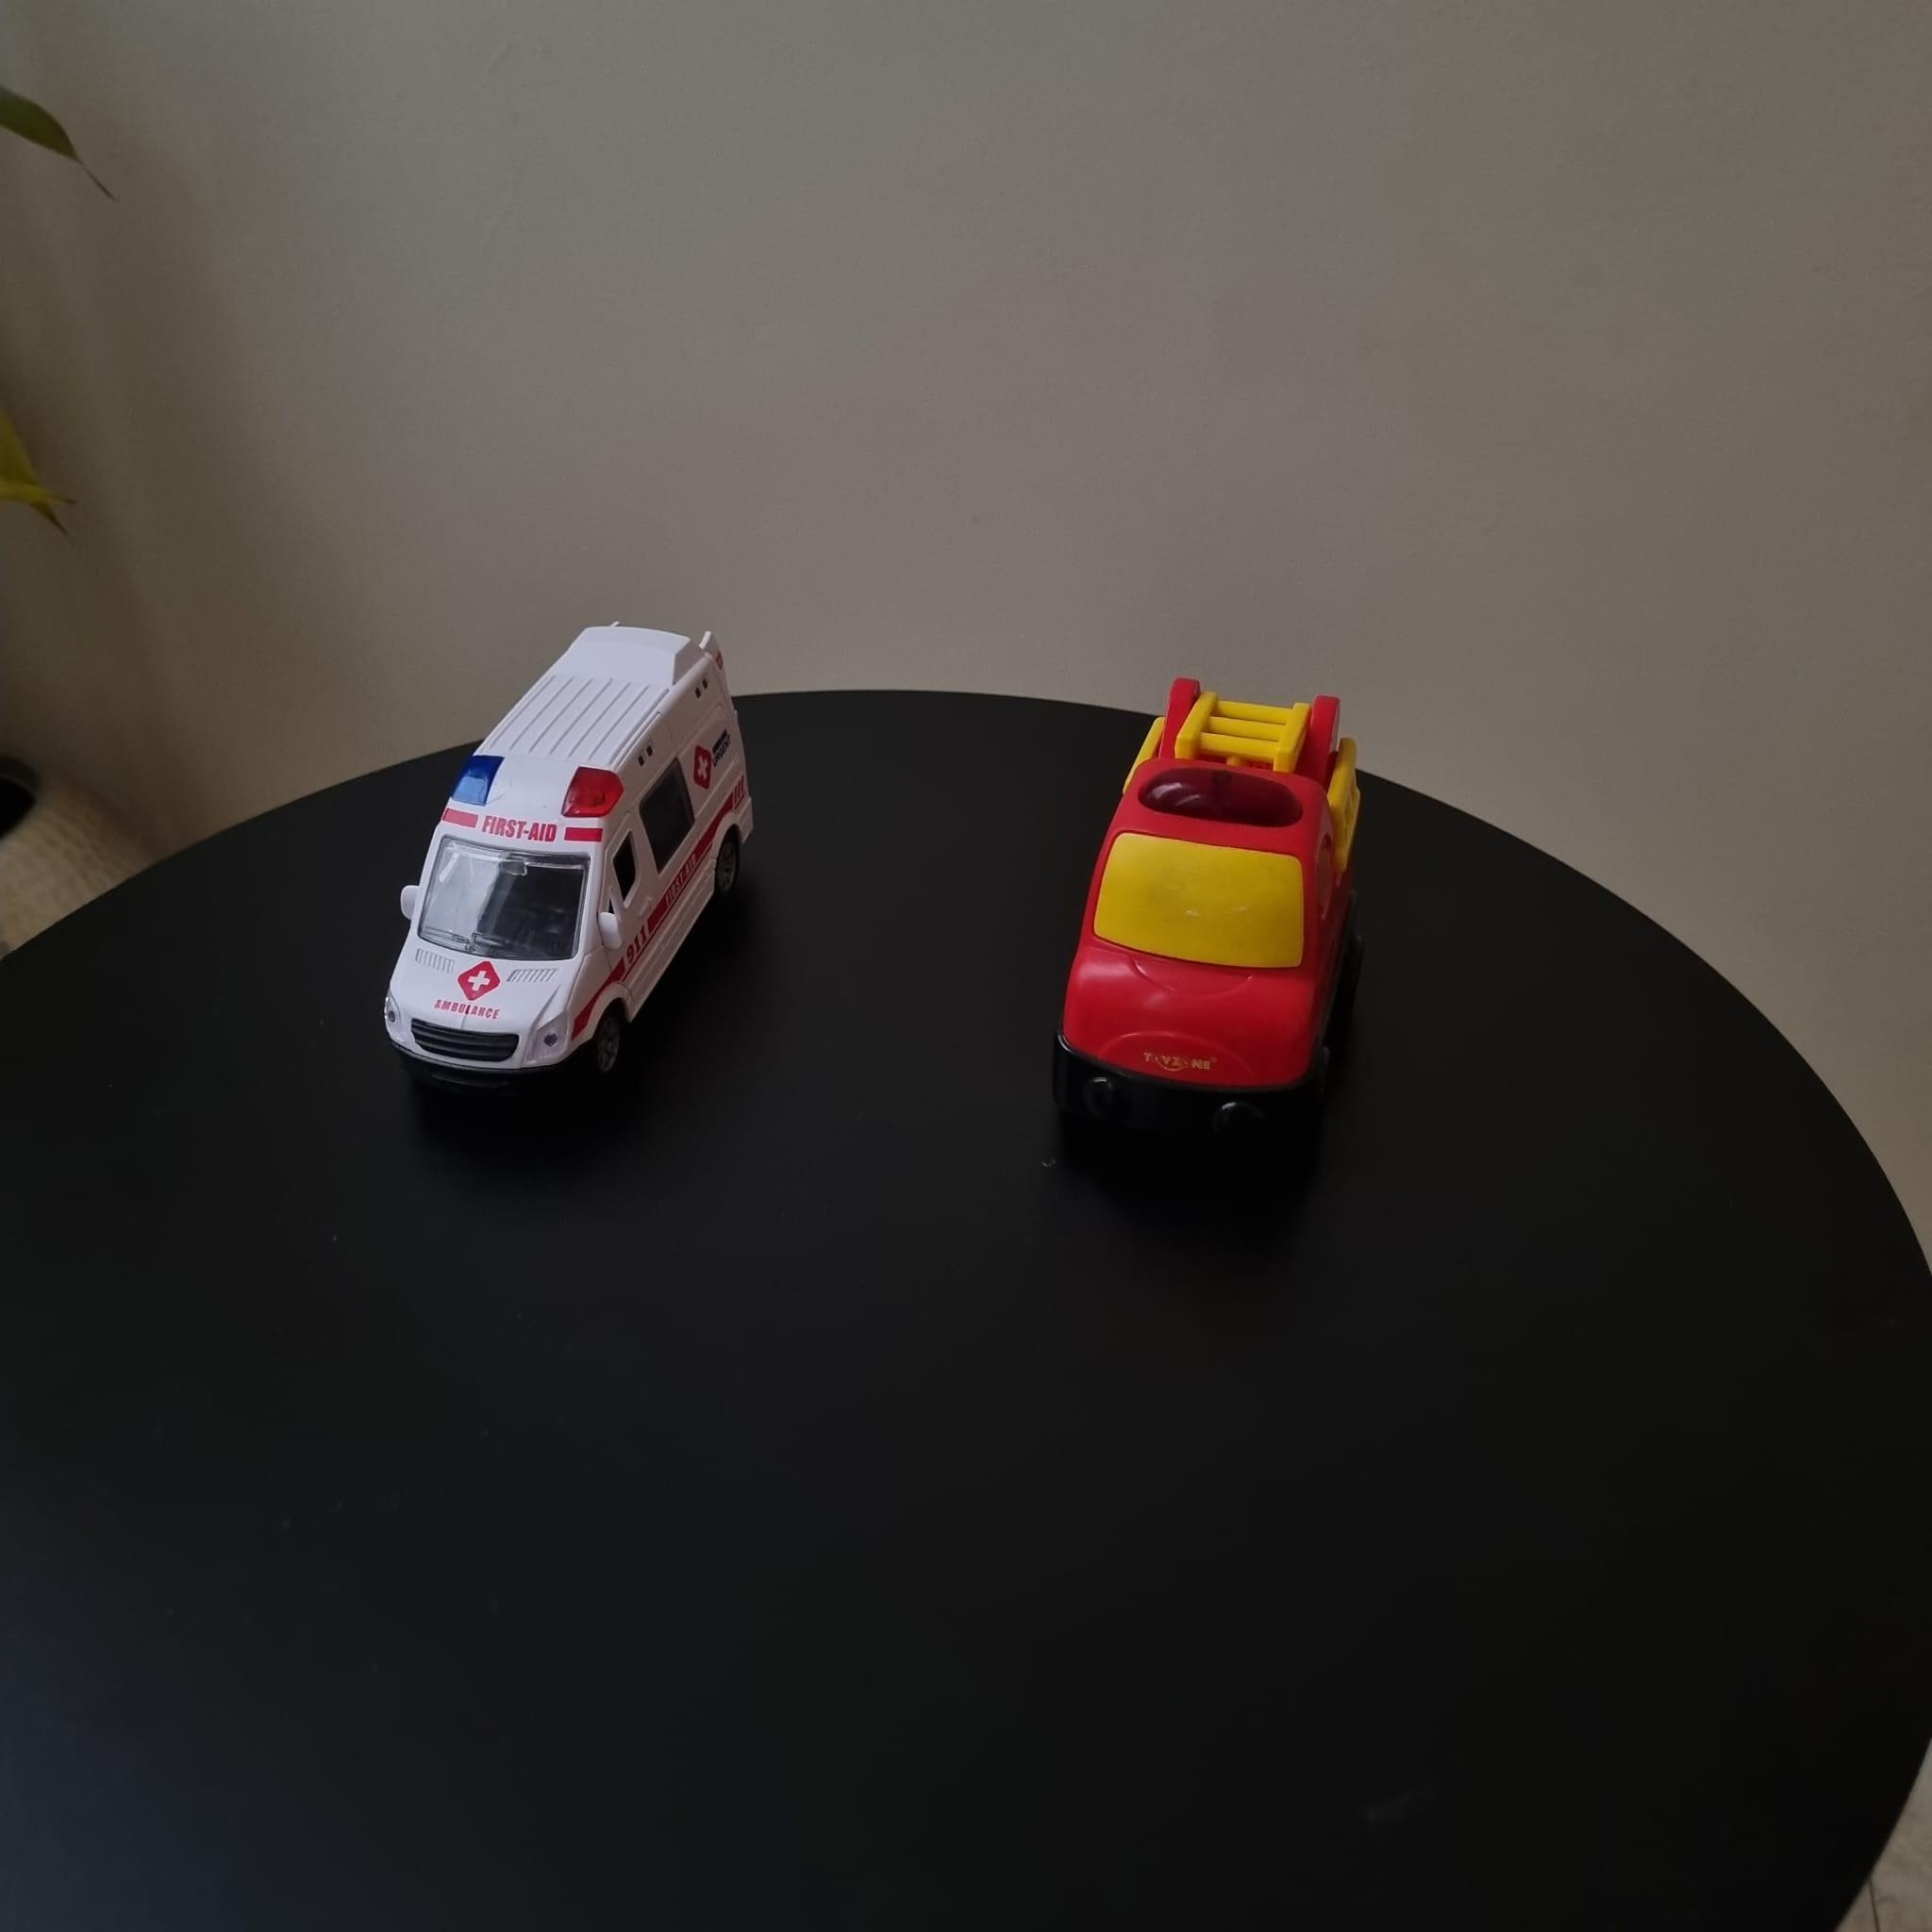ambulance_off: (379, 623, 763, 1100)
firetruck_off: (1058, 676, 1369, 1157)
